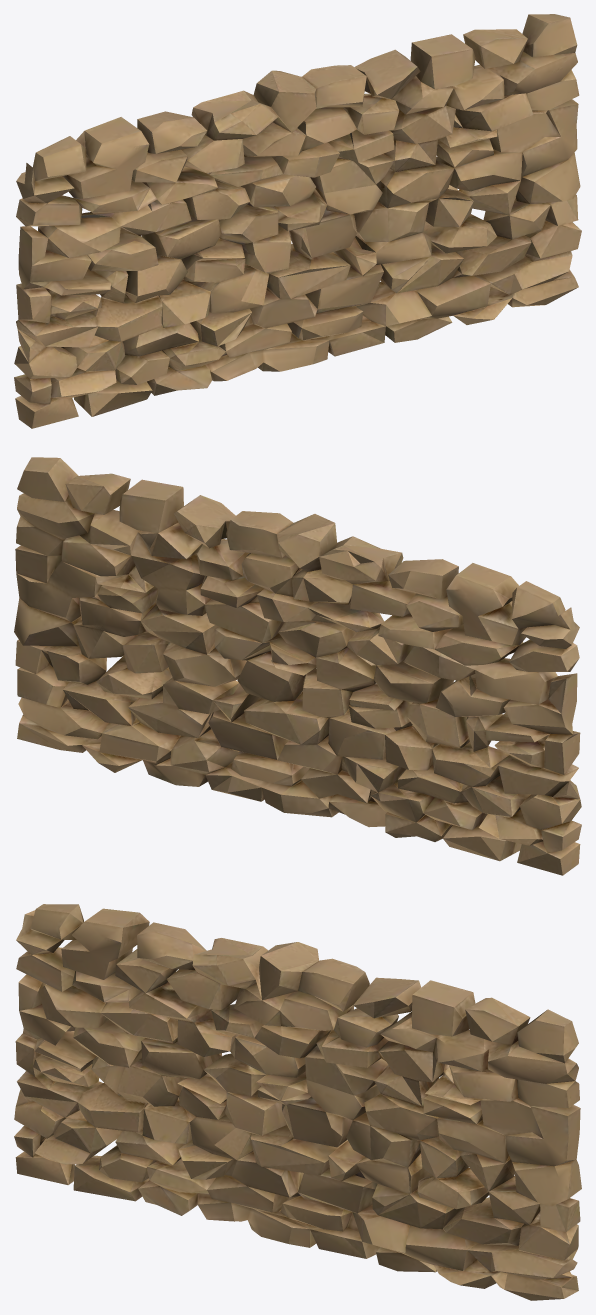
Rendered from Stone_Wall_Dry.glb.
3 renders of one model, top to bottom at view 1: azimuth 30°, elevation 25°; view 2: azimuth 150°, elevation 25°; view 3: azimuth 330°, elevation 25°, orthographic.
Size of the model in its own units: 1.9 by 0.9249 by 0.235.
1 material, 1 textured.
